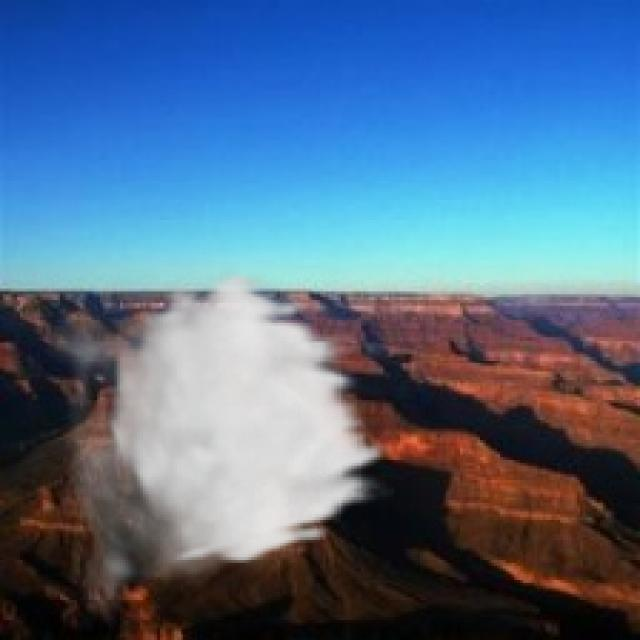smoke: (40, 268, 394, 628)
